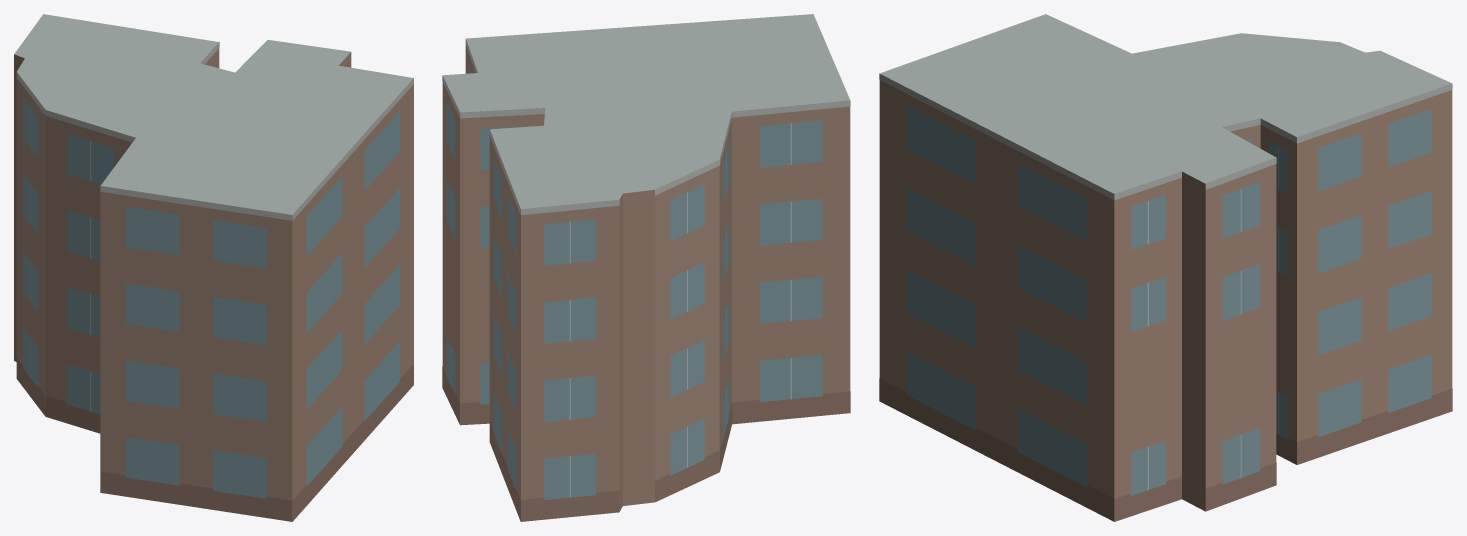
File: survey-upis-32608643.glb
3 renders of one model, left to right at view 1: azimuth 30°, elevation 25°; view 2: azimuth 150°, elevation 25°; view 3: azimuth 270°, elevation 25°, orthographic. The views are drawn at different scales.
Parts seen in each view (by area): view 1: survey-upis-32608643.tmp; view 2: survey-upis-32608643.tmp; view 3: survey-upis-32608643.tmp.
Boxes of the visible parts, x1=… form: survey-upis-32608643.tmp: x1=14, y1=14, x2=413, y2=521; survey-upis-32608643.tmp: x1=442, y1=14, x2=850, y2=521; survey-upis-32608643.tmp: x1=879, y1=14, x2=1452, y2=521.
Size of the model in its own units: 14.97 by 12.7 by 20.13.
